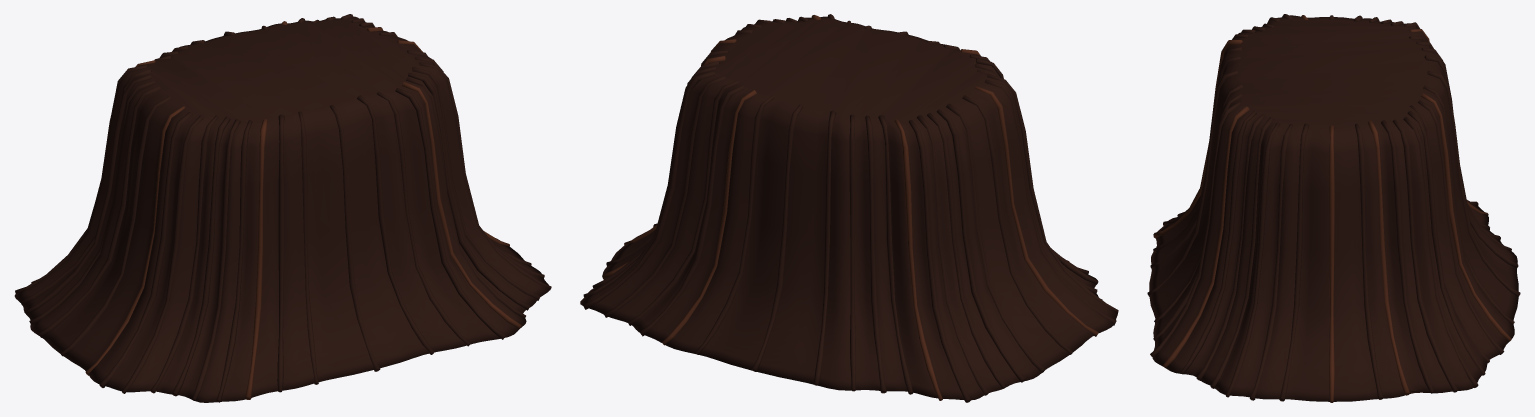
File: cacao-mesa.glb
3 views of the same model, side by side, from view 1: azimuth 30°, elevation 25°; view 2: azimuth 150°, elevation 25°; view 3: azimuth 270°, elevation 25° (orthographic). The views are drawn at different scales.
Visible parts, largest first — view 1: Fluted dark chocolate mesa, Poured chocolate rib.017, Poured chocolate rib.013, Poured chocolate rib.020, Poured chocolate rib.019, Poured chocolate rib.015, Poured chocolate rib.008, Poured chocolate rib.014, Poured chocolate rib.018, Poured chocolate rib.016, Poured chocolate rib.010, Poured chocolate rib.025 (+13 smaller); view 2: Fluted dark chocolate mesa, Poured chocolate rib.024, Poured chocolate rib.027, Poured chocolate rib.028, Poured chocolate rib.030, Poured chocolate rib.031, Poured chocolate rib.039, Poured chocolate rib.036, Poured chocolate rib.034, Poured chocolate rib.033, Poured chocolate rib.032, Poured chocolate rib.025 (+10 smaller); view 3: Fluted dark chocolate mesa, Poured chocolate rib.041, Poured chocolate rib.006, Poured chocolate rib, Poured chocolate rib.003, Poured chocolate rib.001, Poured chocolate rib.043, Poured chocolate rib.040, Poured chocolate rib.038, Poured chocolate rib.042, Poured chocolate rib.002, Poured chocolate rib.035 (+14 smaller).
Boxes of the visible parts, x1,y1,x2,y2 form: Fluted dark chocolate mesa: [14, 16, 550, 402]; Poured chocolate rib.017: [172, 116, 230, 396]; Poured chocolate rib.013: [277, 114, 284, 392]; Poured chocolate rib.020: [99, 112, 192, 387]; Poured chocolate rib.019: [122, 115, 203, 393]; Poured chocolate rib.015: [216, 120, 252, 402]; Poured chocolate rib.008: [395, 88, 505, 339]; Poured chocolate rib.014: [245, 119, 267, 399]; Poured chocolate rib.018: [150, 115, 218, 393]; Poured chocolate rib.016: [192, 119, 240, 400]; Poured chocolate rib.010: [357, 95, 434, 354]; Poured chocolate rib.025: [24, 75, 151, 314]; Fluted dark chocolate mesa: [580, 16, 1118, 400]; Poured chocolate rib.024: [936, 109, 1025, 382]; Poured chocolate rib.027: [908, 120, 970, 402]; Poured chocolate rib.028: [894, 119, 942, 400]; Poured chocolate rib.030: [865, 115, 886, 393]; Poured chocolate rib.031: [849, 114, 855, 391]; Poured chocolate rib.039: [583, 71, 715, 309]; Poured chocolate rib.036: [639, 85, 744, 336]; Poured chocolate rib.034: [695, 96, 774, 354]; Poured chocolate rib.033: [751, 104, 802, 371]; Poured chocolate rib.032: [814, 110, 836, 385]; Poured chocolate rib.025: [927, 113, 1005, 388]; Fluted dark chocolate mesa: [1149, 15, 1518, 401]; Poured chocolate rib.041: [1381, 120, 1433, 393]; Poured chocolate rib.006: [1180, 110, 1256, 374]; Poured chocolate rib: [1328, 125, 1334, 402]; Poured chocolate rib.003: [1225, 122, 1280, 397]; Poured chocolate rib.001: [1279, 123, 1309, 401]; Poured chocolate rib.043: [1355, 123, 1383, 399]; Poured chocolate rib.040: [1392, 119, 1457, 392]; Poured chocolate rib.038: [1407, 110, 1485, 375]; Poured chocolate rib.042: [1367, 120, 1409, 395]; Poured chocolate rib.002: [1249, 124, 1292, 400]; Poured chocolate rib.035: [1421, 93, 1511, 341].
Bounding box in the file's own units: 14.36 × 7.14 × 10.62.
